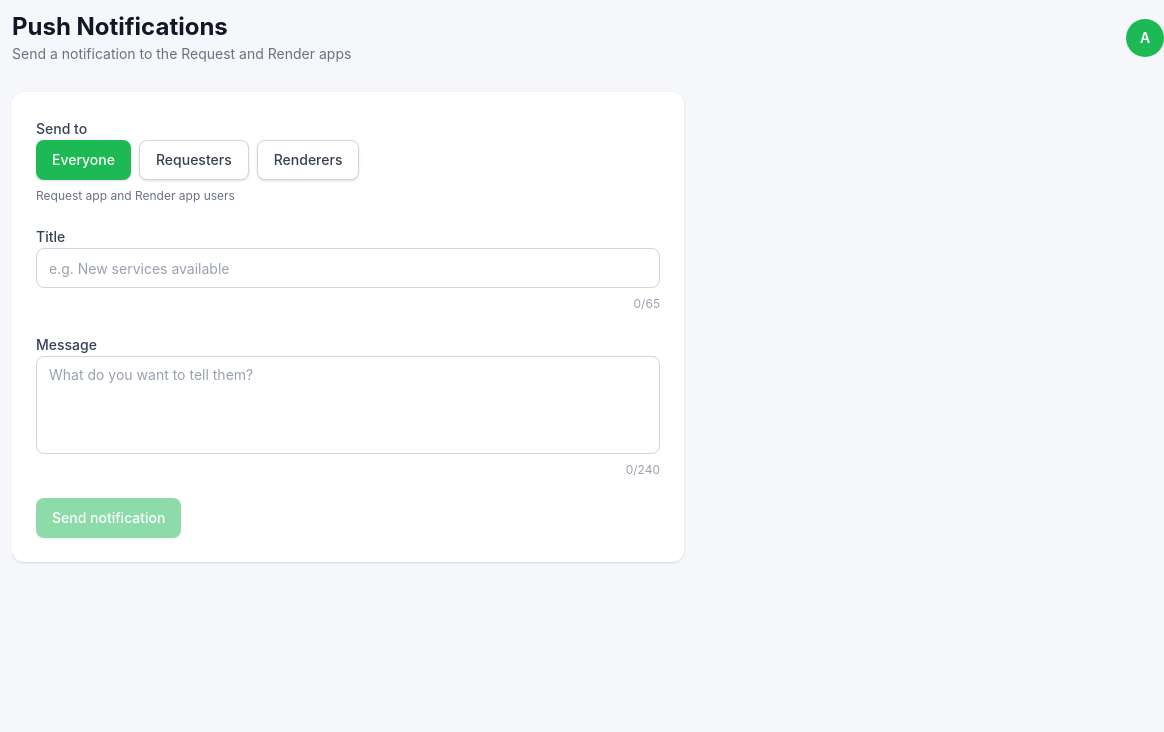
Push Notifications page › asks for confirmation, then sends to the chosen audience
Click the radio button labelled "Renderers" at (308,160), box [257, 140, 359, 180]
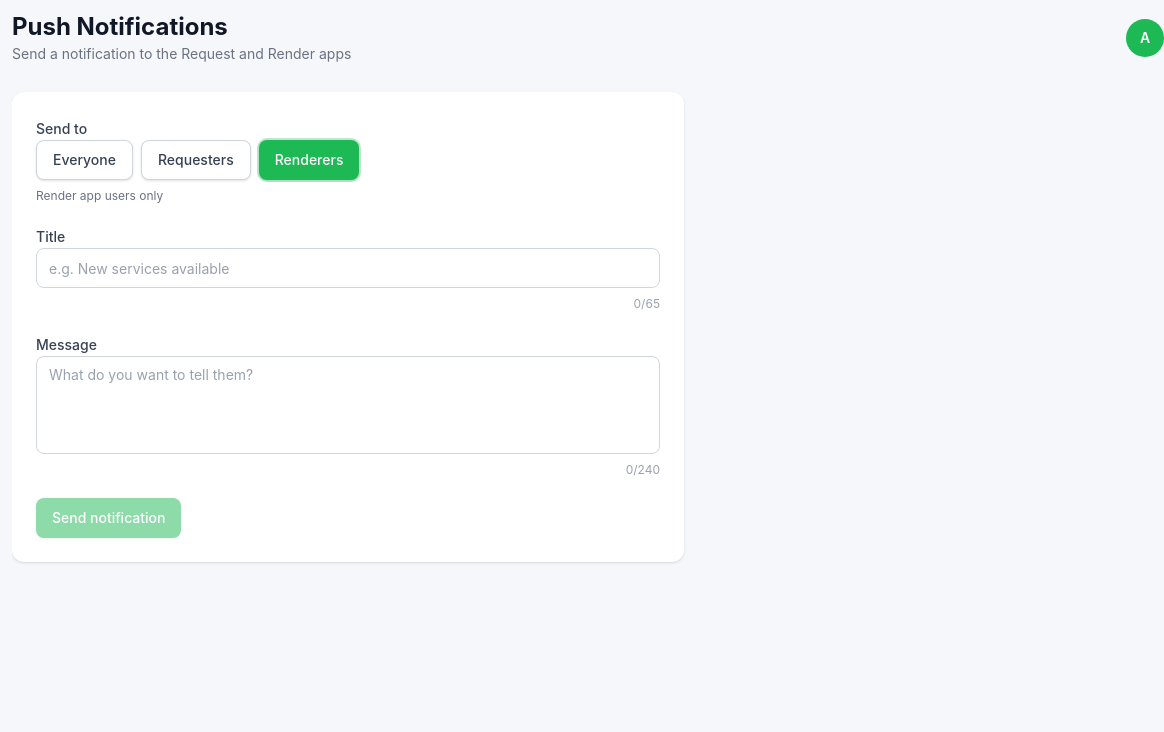
Type "Busy weekend" into the field labelled "Title" at (348,268), box [36, 248, 660, 288]
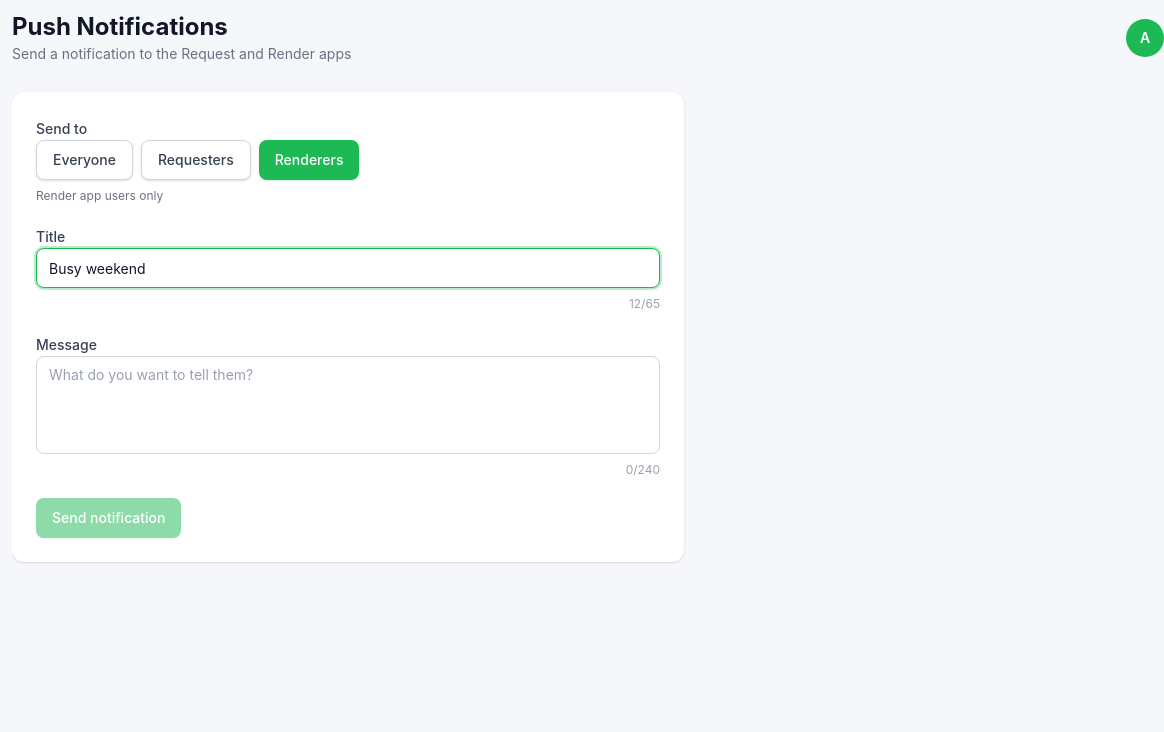
Type "Go online for more requests" into the text box labelled "Message" at (348,405), box [36, 356, 660, 454]
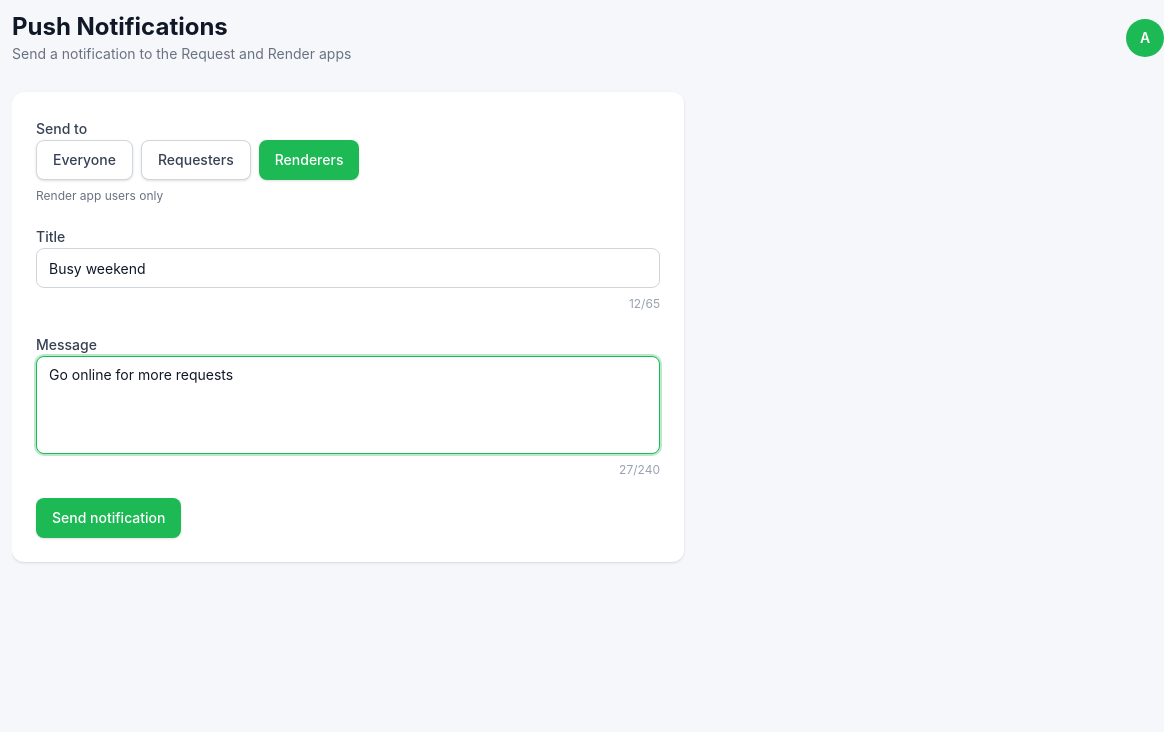
Click the button "Send notification" at (109,518), box [36, 498, 182, 538]
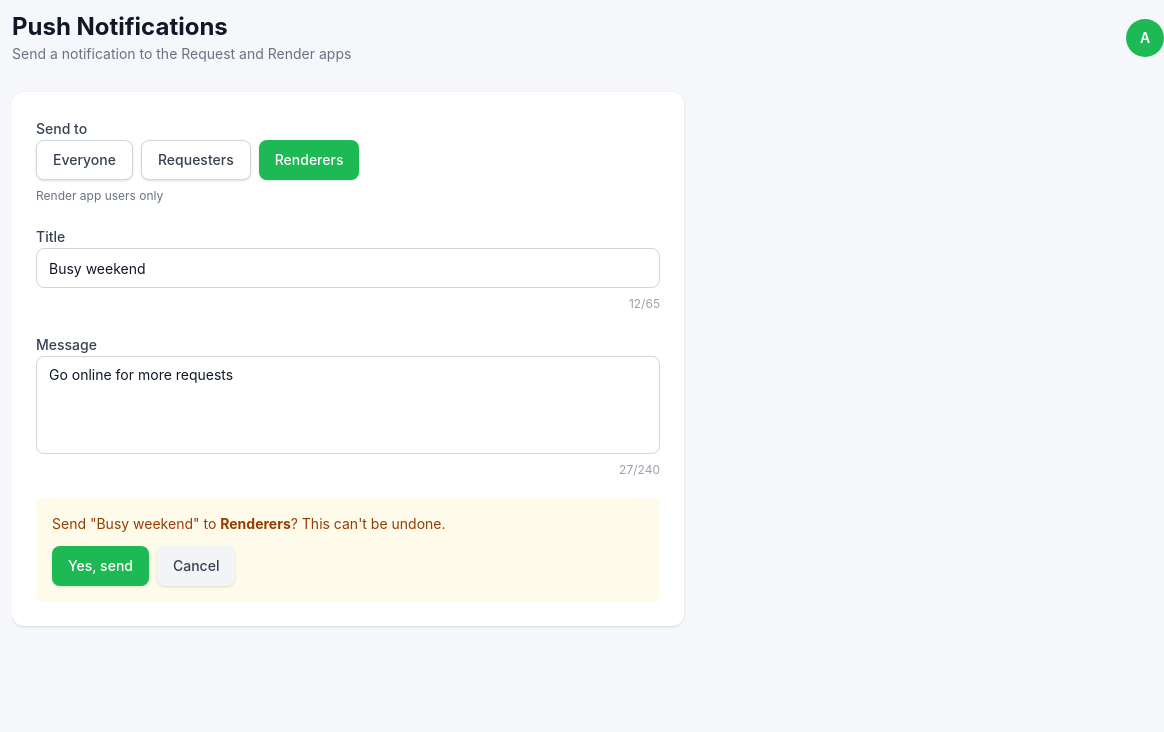
Now the text "Send \"Busy weekend\" to Renderers? This can't be undone." is shown, box [52, 515, 446, 532]
Click the button "Yes, send" at (100,566), box [52, 546, 149, 586]
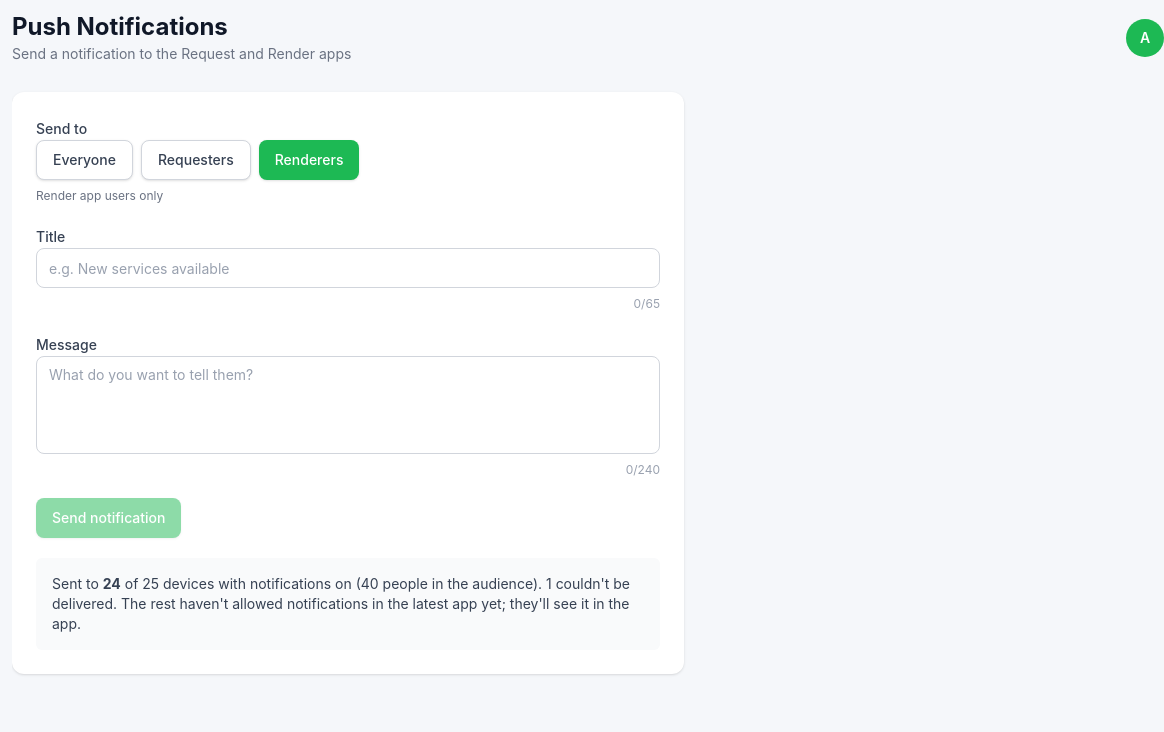
Now the message shows "Sent to 24 of 25 devices", box [36, 558, 660, 650]
